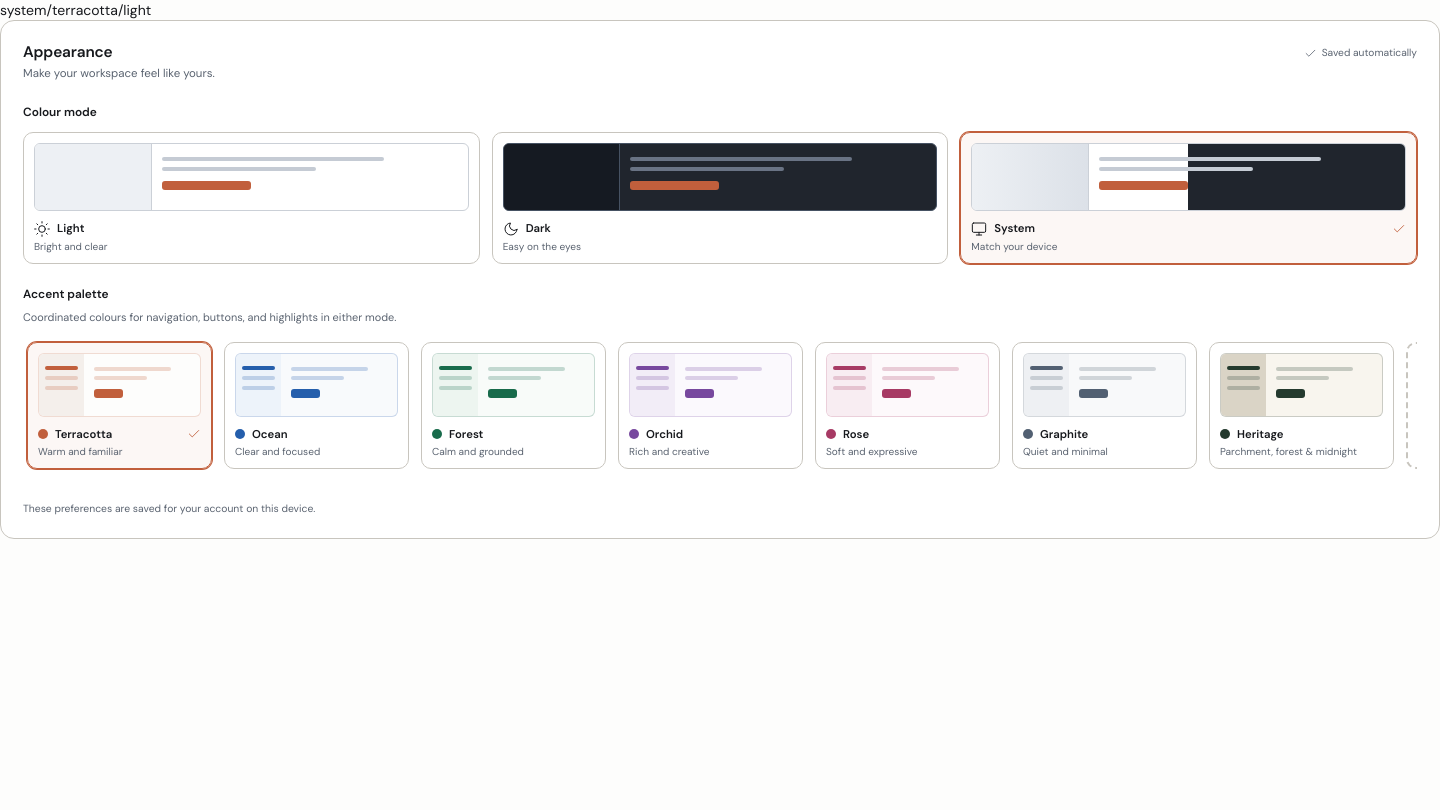
Appearance settings › applies a mode and palette immediately and shares them with the app layout
What coordinates should you click on to do the following:
click the button with aria-label "Dark mode"
I would click on:
 (720, 198)
Its box is [492,132,948,264].
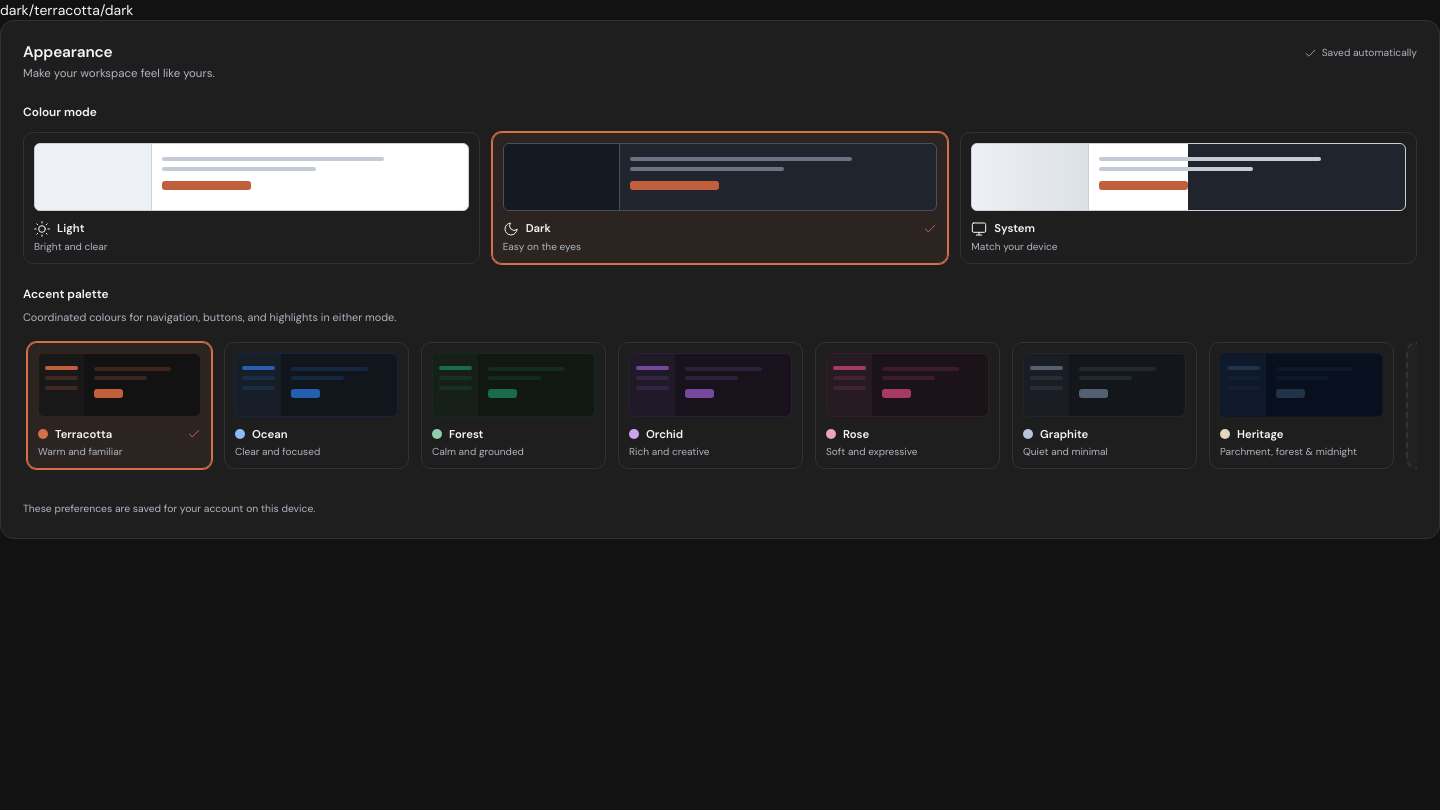
What coordinates should you click on to do the following:
click the button with aria-label "Ocean palette"
I would click on:
 (316, 405)
Its box is [224,342,409,469].
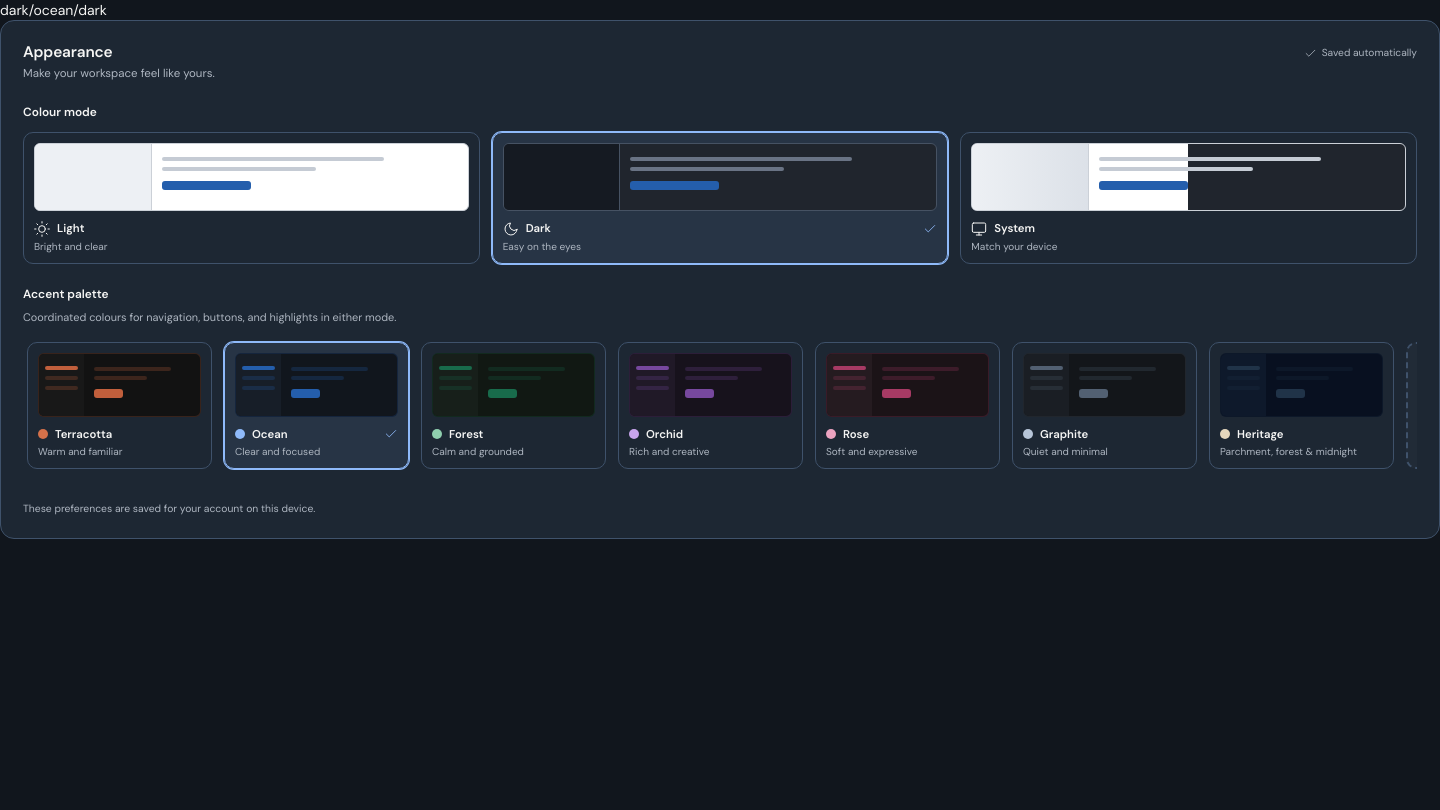
Check: the text "dark/ocean/dark" is shown, box [0,1,107,19]
